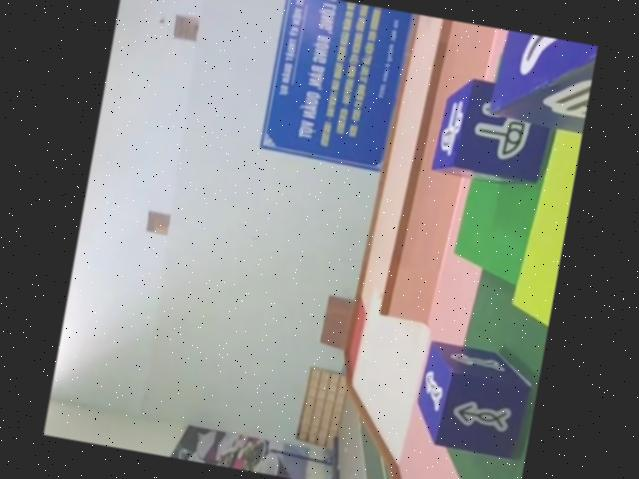R2 Fake Blue: (489, 29, 597, 131)
R2 Real Blue: (412, 337, 541, 460), (431, 75, 564, 194)
